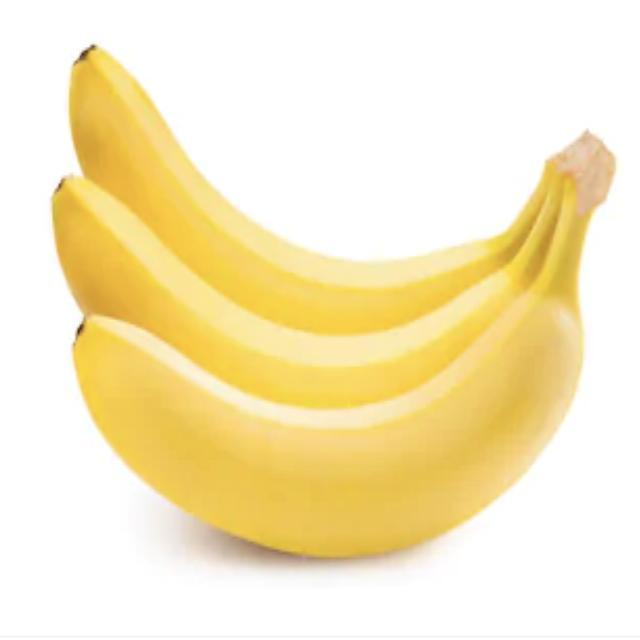Banana: (51, 42, 616, 559)
